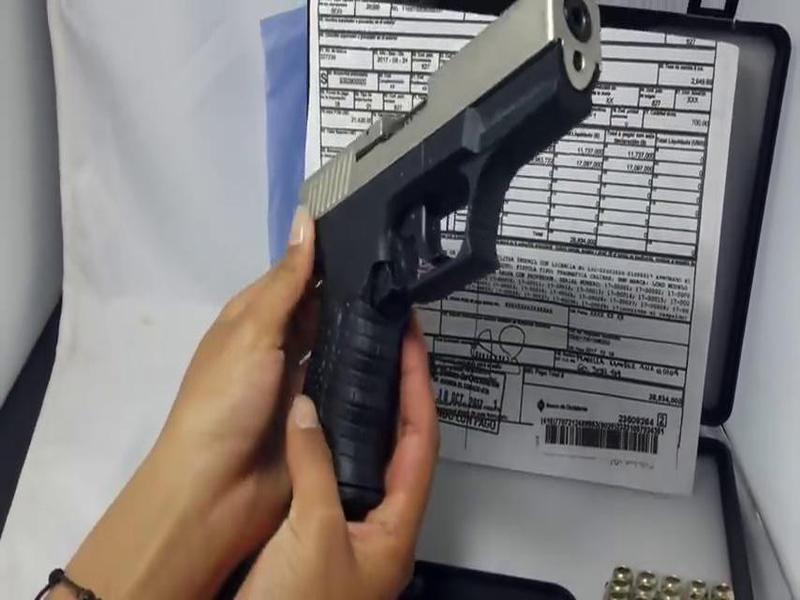Pistola: (274, 7, 649, 546)
